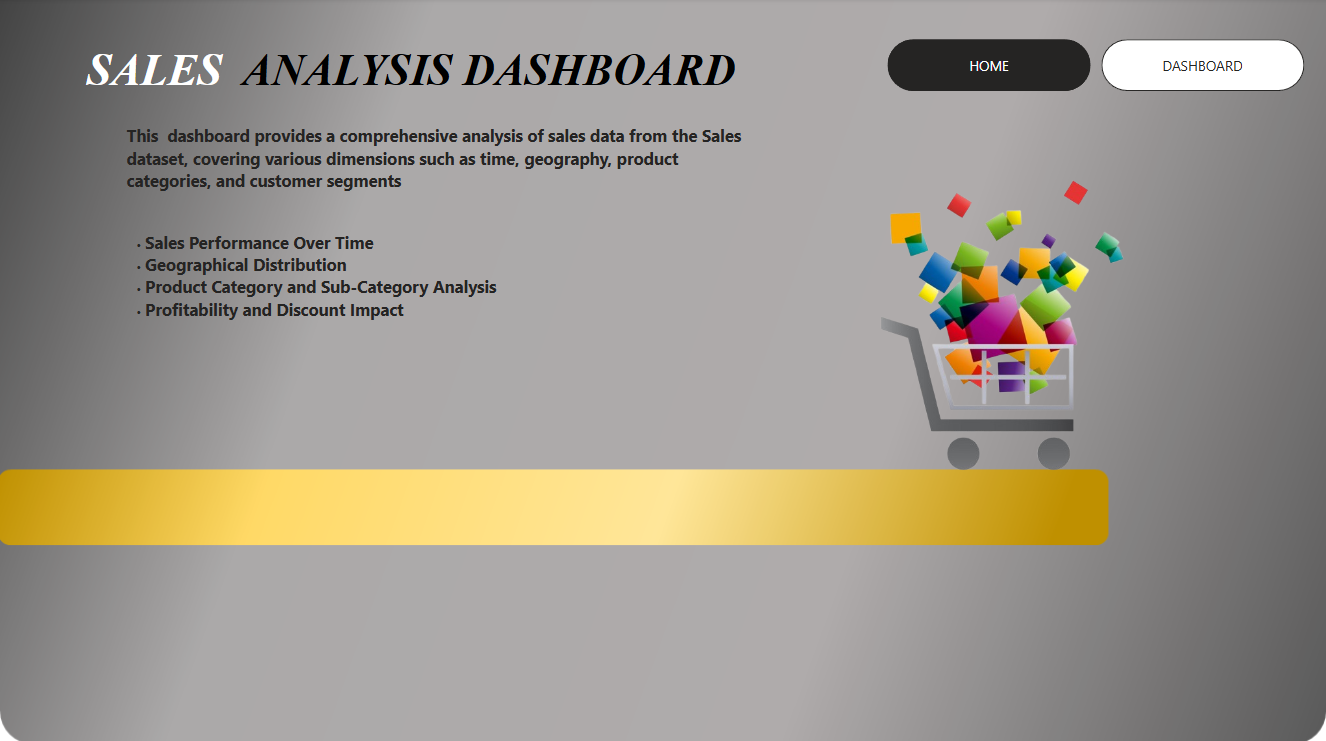

Layout of this report page (visuals, bound fields, positions):
{"tool":"powerbi","page":{"name":"HOME","canvas":[1280,720],"ordinal":0},"visuals":[{"type":"pageNavigator","box":[856,40.4,402.3,50.1],"z":0},{"type":"image","box":[781.8,171.3,393.3,301.6],"z":1000},{"type":"textbox","box":[60.3,39.8,673.2,67.6],"z":3000},{"type":"textbox","box":[117,117,628.6,105],"z":3001},{"type":"textbox","box":[117,219.6,616.5,102.5],"z":3002}]}

Visuals, with their boxes in screenshot pixels (x1, y1, x2, y2), scaled from the page's 1280x720 canvas onto the 1326x741 screenshot:
pageNavigator: 887 42 1304 93
image: 810 176 1217 487
textbox: 62 41 760 111
textbox: 121 120 772 228
textbox: 121 226 760 331
